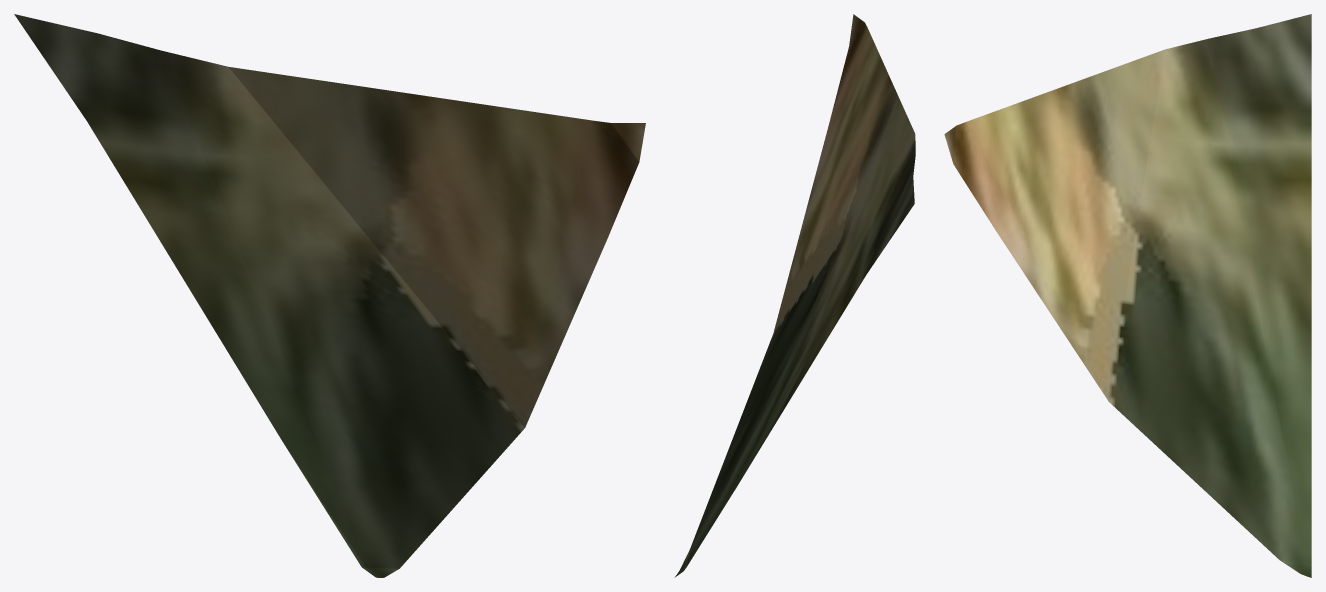
The picture shows the model from 3 angles, left to right: view 1: azimuth 30°, elevation 25°; view 2: azimuth 150°, elevation 25°; view 3: azimuth 270°, elevation 25°; orthographic projection. The views are drawn at different scales.
Size of the model in its own units: 0.7225 by 1.24 by 0.9323.
1 material, 1 textured.
